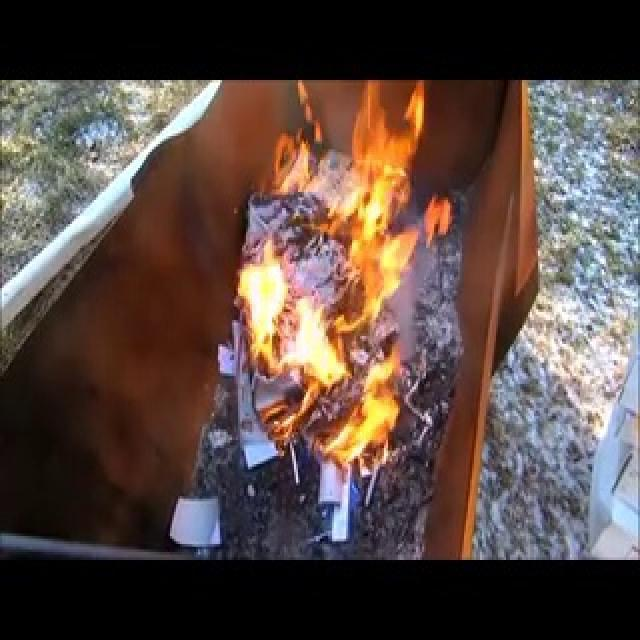Fire: (229, 78, 455, 470)
